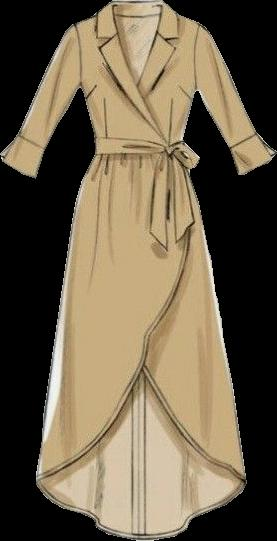Bodice: (74, 0, 200, 155)
Hemline: (34, 157, 194, 477), (142, 366, 245, 479)
Neckline: (111, 0, 163, 92)
Skirt: (36, 155, 246, 539)
Sleeve: (0, 25, 80, 178), (195, 26, 276, 174)
Sleeveline: (191, 22, 206, 96), (71, 24, 85, 92), (16, 131, 48, 151), (230, 133, 256, 150)
Waistline: (93, 151, 183, 159)
